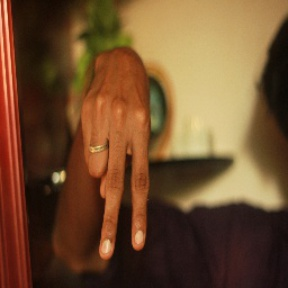Y: (71, 82, 161, 258)
